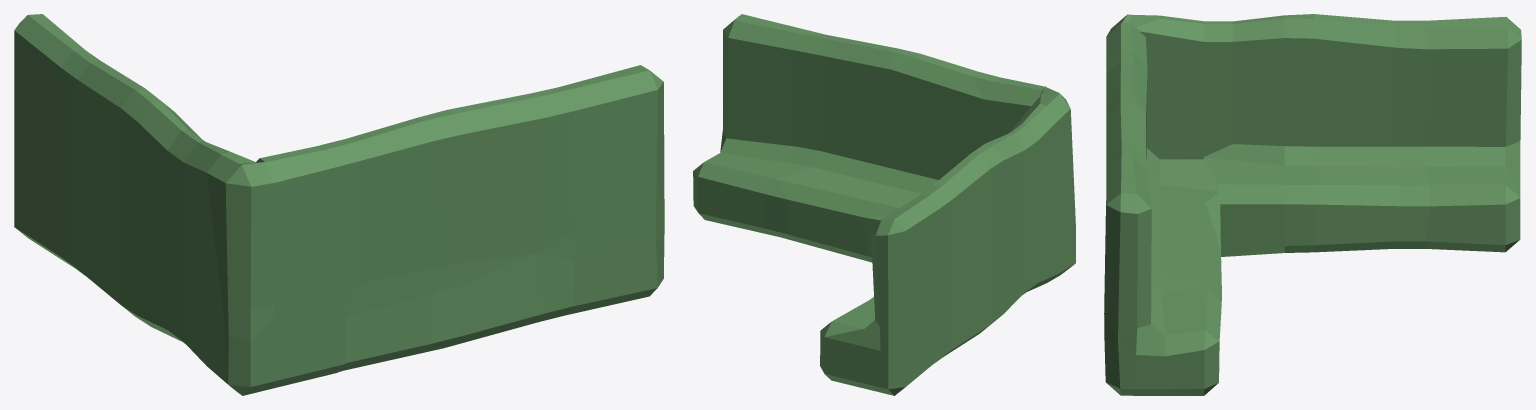
Rendered from ml_couch_3.glb.
3 views of the same model, side by side, from view 1: azimuth 30°, elevation 25°; view 2: azimuth 150°, elevation 25°; view 3: azimuth 270°, elevation 25° (orthographic). The views are drawn at different scales.
Parts seen in each view (by area): view 1: Cube.002; view 2: Cube.002; view 3: Cube.002.
Boxes of the visible parts, x1,y1,x2,y2 form: Cube.002: [14, 14, 664, 395]; Cube.002: [693, 14, 1075, 395]; Cube.002: [1104, 14, 1521, 395].
Bounding box in the file's own units: 12.14 × 6.19 × 11.19.
